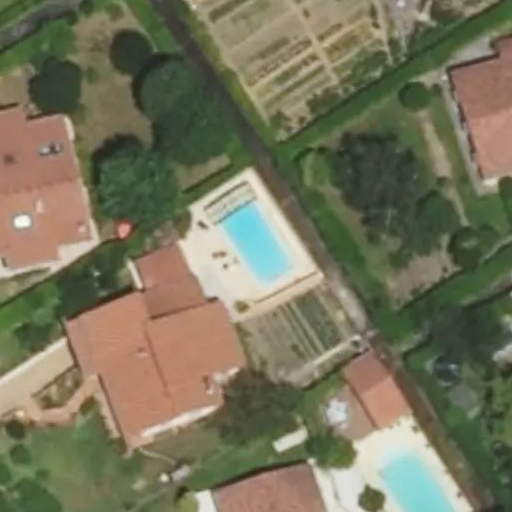pool: (220, 200, 296, 287), (377, 449, 456, 512)
